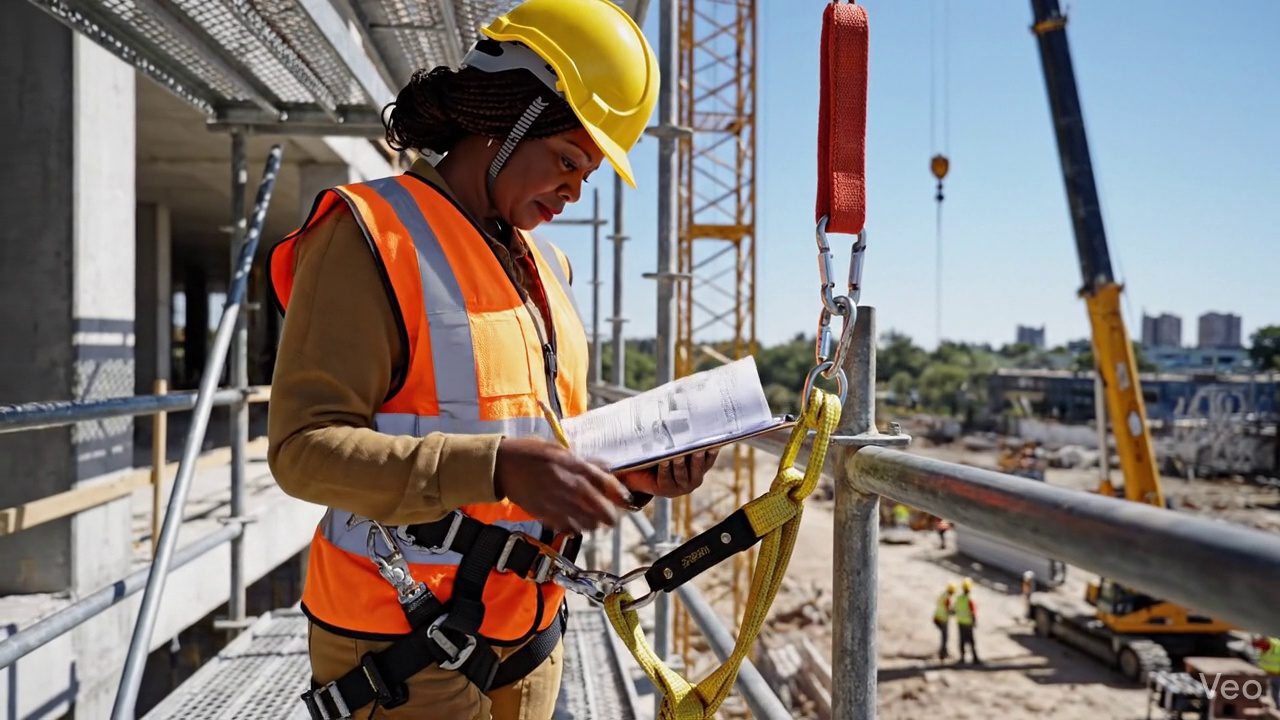p: (268, 0, 717, 719)
